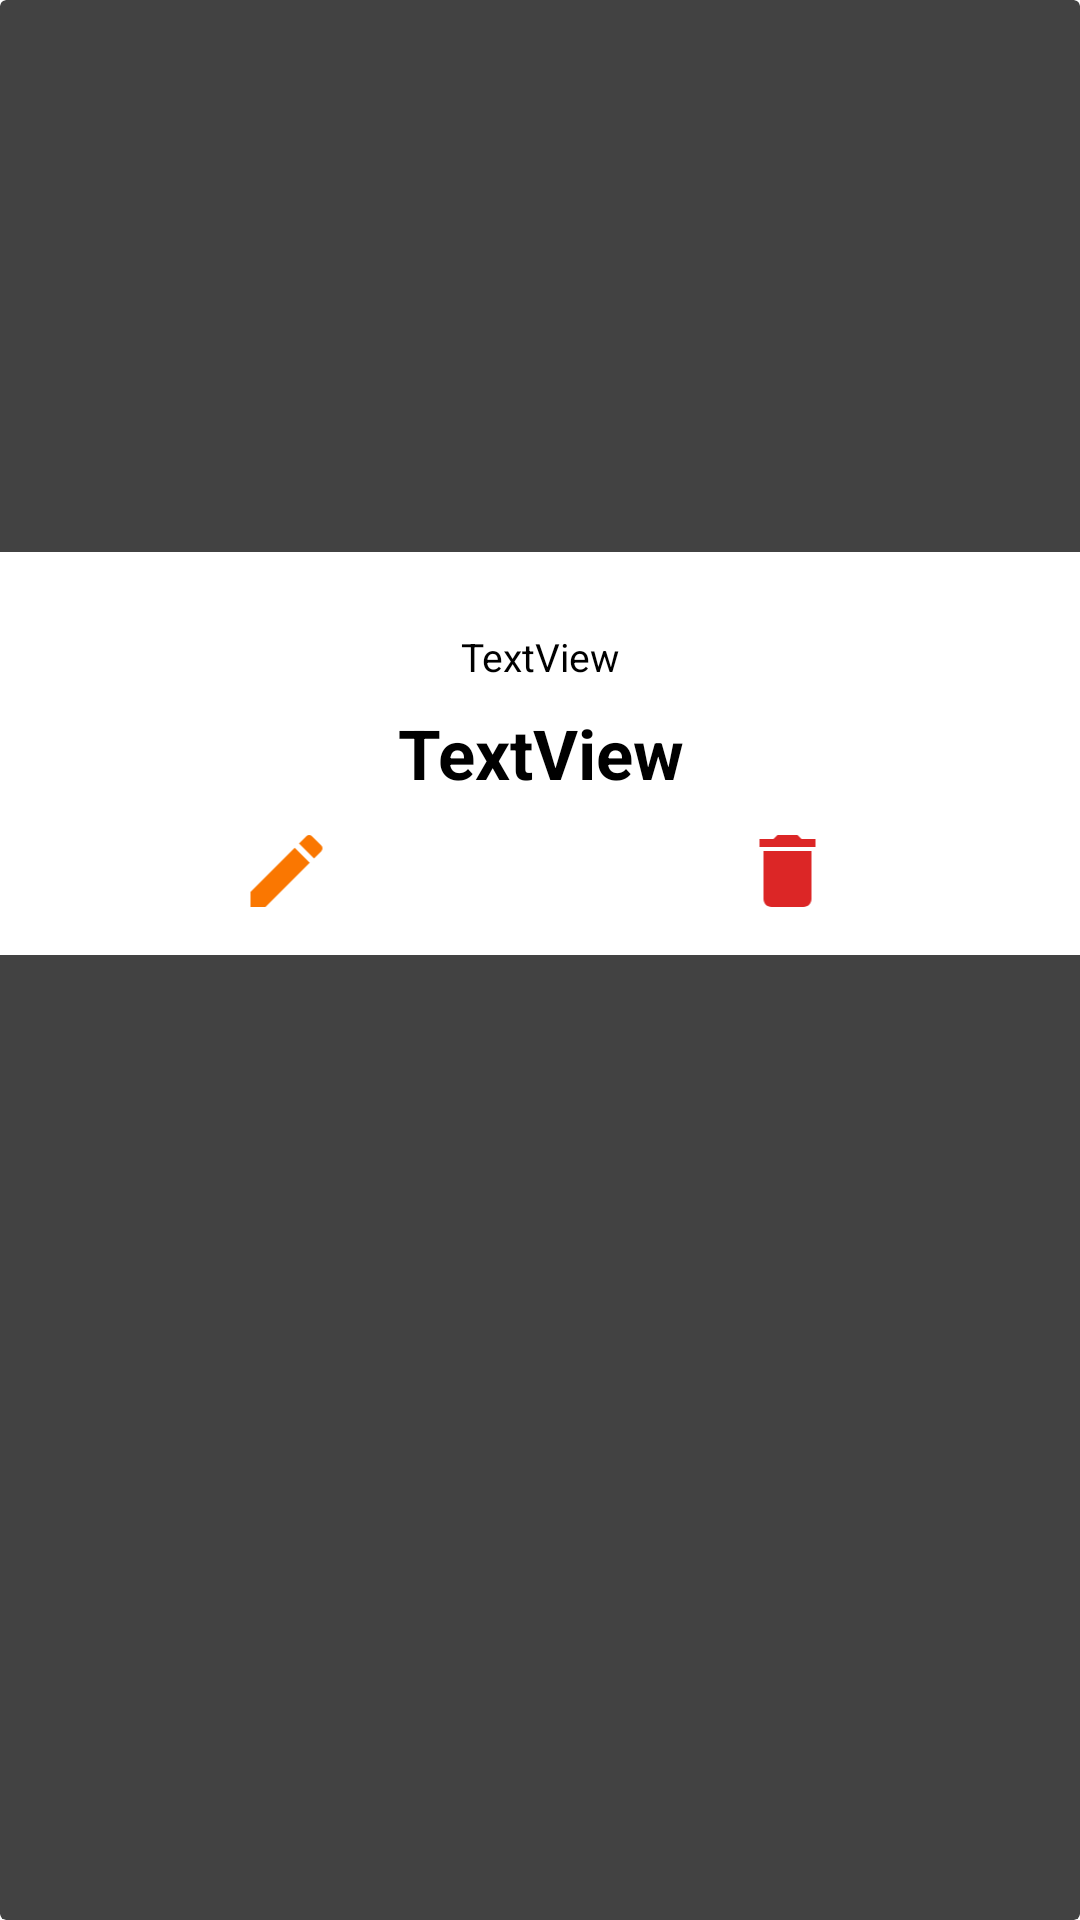

Named icons in this screenshot (1080 x 1920) and their bounding boxes, (x1, y1, x2, y2):
delete: (759, 835, 816, 907)
edit: (250, 835, 323, 907)
